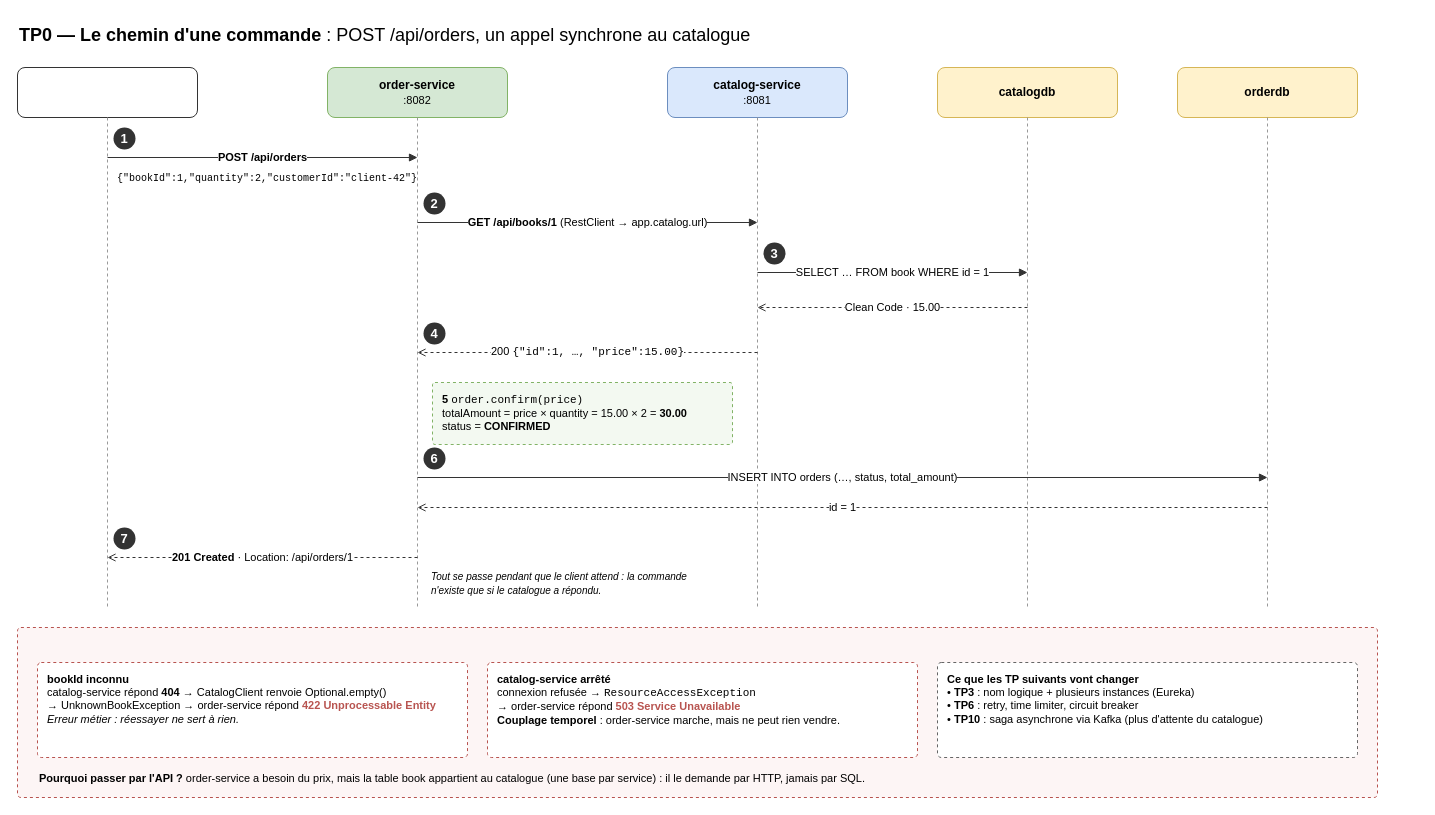
Some shapes in this 1435 by 815 pixel diagram are drawn without their labels. The box of each missing label's shape, as (x1, y1, x2, y2) in pixels:
Client HTTP curl · starter.http: (16, 66, 198, 118)
Quand le catalogue ne répond pas comme prévu: (16, 626, 1378, 798)
